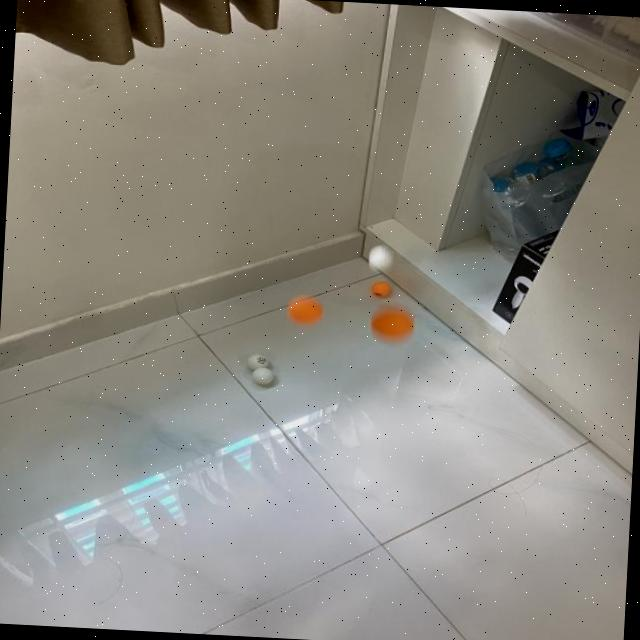ping-pong-ball: (366, 303, 414, 339), (286, 292, 324, 324), (368, 246, 392, 270), (245, 352, 268, 371), (249, 366, 273, 384), (369, 280, 392, 296)
